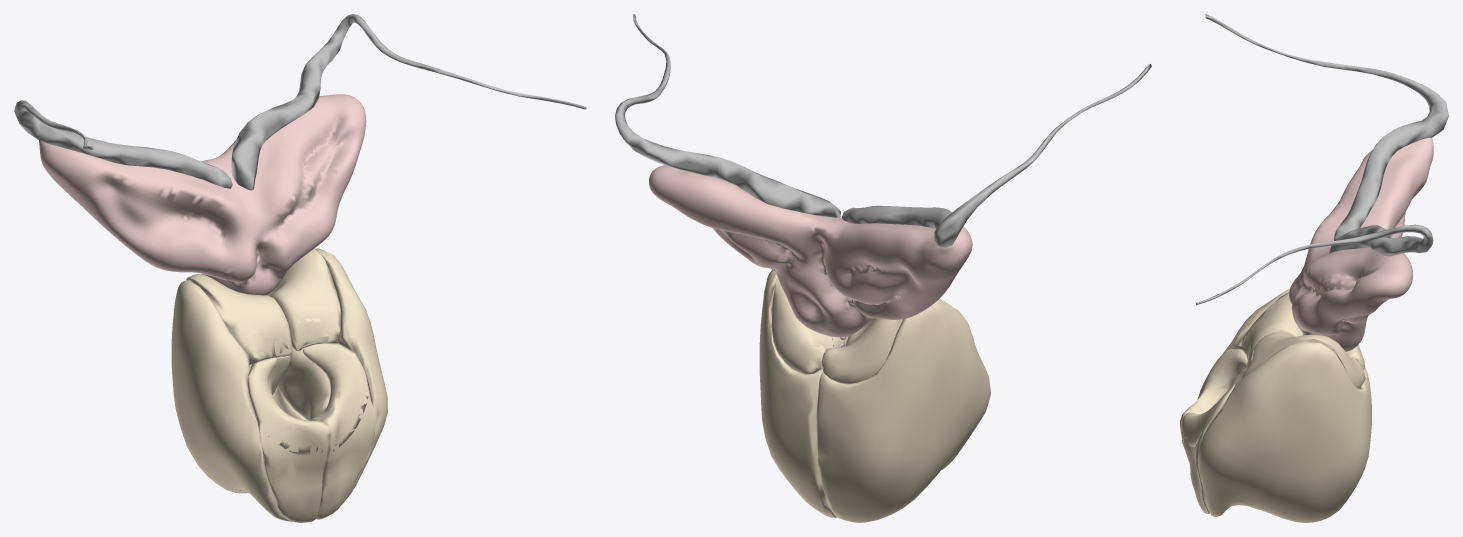
File: vh_m_prostate-80.glb
3 renders of one model, left to right at view 1: azimuth 30°, elevation 25°; view 2: azimuth 150°, elevation 25°; view 3: azimuth 270°, elevation 25°, orthographic. The views are drawn at different scales.
Visible parts, largest first — view 1: VH_M_seminal_vesicle, VH_M_peripheral_zone_of_prostate_R, VH_M_anterior_fibromuscular_stroma_R, VH_M_anterior_fibromuscular_stroma_L, VH_M_vas_deferens_R, VH_M_vas_deferens_L, VH_M_central_zone_of_prostate_L, VH_M_peripheral_zone_of_prostate_L, VH_M_central_zone_of_prostate_R, VH_M_base_of_prostate, VH_M_transition_zone__of_prostate_L; view 2: VH_M_peripheral_zone_of_prostate_R, VH_M_seminal_vesicle, VH_M_peripheral_zone_of_prostate_L, VH_M_vas_deferens_R, VH_M_vas_deferens_L, VH_M_central_zone_of_prostate_R, VH_M_central_zone_of_prostate_L; view 3: VH_M_peripheral_zone_of_prostate_L, VH_M_seminal_vesicle, VH_M_vas_deferens_L, VH_M_vas_deferens_R, VH_M_central_zone_of_prostate_L, VH_M_central_zone_of_prostate_R, VH_M_anterior_fibromuscular_stroma_L, VH_M_anterior_fibromuscular_stroma_R, VH_M_base_of_prostate, VH_M_peripheral_zone_of_prostate_R.
Part boxes in pixels (x1,y1,x2,y2): VH_M_seminal_vesicle: (39,94,366,295); VH_M_peripheral_zone_of_prostate_R: (171,280,293,521); VH_M_anterior_fibromuscular_stroma_R: (248,357,329,522); VH_M_anterior_fibromuscular_stroma_L: (303,343,375,519); VH_M_vas_deferens_R: (231,14,586,190); VH_M_vas_deferens_L: (14,100,232,188); VH_M_central_zone_of_prostate_L: (267,248,340,387); VH_M_peripheral_zone_of_prostate_L: (272,248,387,499); VH_M_central_zone_of_prostate_R: (186,274,292,364); VH_M_base_of_prostate: (235,317,368,454); VH_M_transition_zone__of_prostate_L: (277,346,330,420); VH_M_peripheral_zone_of_prostate_R: (816,298,990,522); VH_M_seminal_vesicle: (649,165,972,337); VH_M_peripheral_zone_of_prostate_L: (759,270,837,517); VH_M_vas_deferens_R: (615,14,840,217); VH_M_vas_deferens_L: (841,64,1151,247); VH_M_central_zone_of_prostate_R: (821,318,902,383); VH_M_central_zone_of_prostate_L: (771,277,848,374); VH_M_peripheral_zone_of_prostate_L: (1197,342,1371,522); VH_M_seminal_vesicle: (1289,137,1433,351); VH_M_vas_deferens_L: (1205,14,1448,240); VH_M_vas_deferens_R: (1196,224,1433,305); VH_M_central_zone_of_prostate_L: (1241,332,1365,388); VH_M_central_zone_of_prostate_R: (1241,292,1364,369); VH_M_anterior_fibromuscular_stroma_L: (1181,379,1241,513); VH_M_anterior_fibromuscular_stroma_R: (1180,349,1247,443); VH_M_base_of_prostate: (1182,325,1253,447); VH_M_peripheral_zone_of_prostate_R: (1200,289,1371,409).
Bounding box in the file's own units: 0.083 × 0.0705 × 0.0428.
